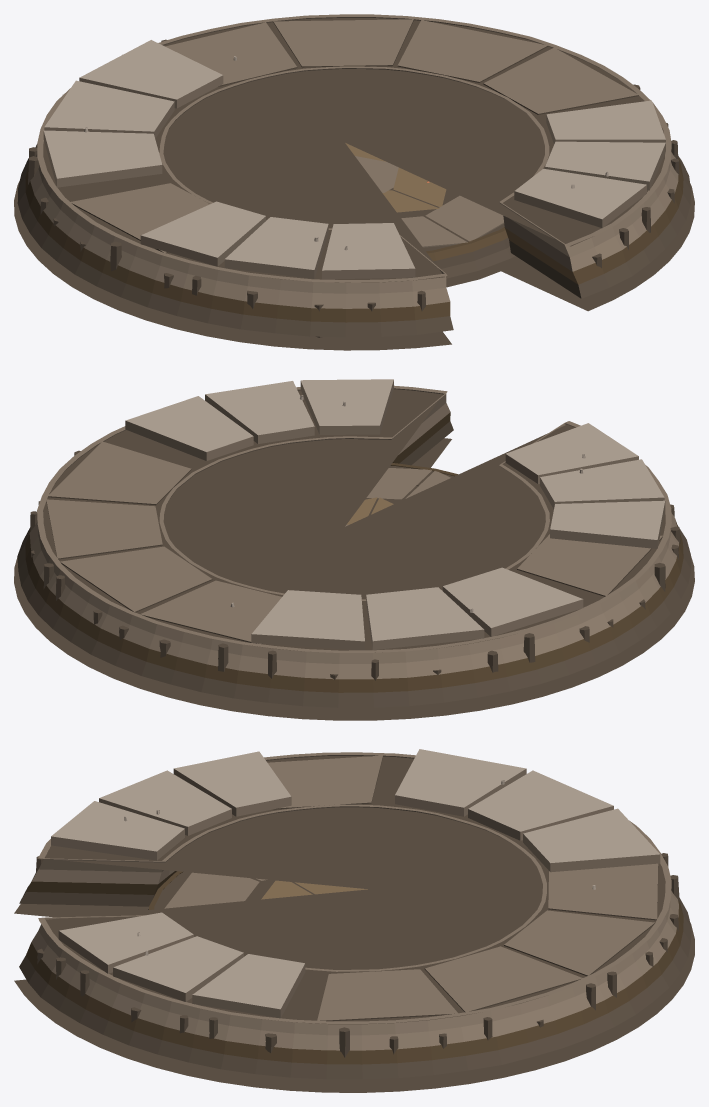
Rendered from VolcanoRimA.fbx.
3 views of the same model, one above another, from view 1: azimuth 30°, elevation 25°; view 2: azimuth 150°, elevation 25°; view 3: azimuth 270°, elevation 25° (orthographic).
Parts seen in each view (by area): view 1: VolcanoRimA; view 2: VolcanoRimA; view 3: VolcanoRimA.
Boxes of the visible parts, bbox=[...] form: VolcanoRimA: bbox=[14, 14, 694, 350]; VolcanoRimA: bbox=[14, 379, 694, 720]; VolcanoRimA: bbox=[14, 749, 694, 1092].
Size of the model in its own units: 6907 by 792 by 6814.
